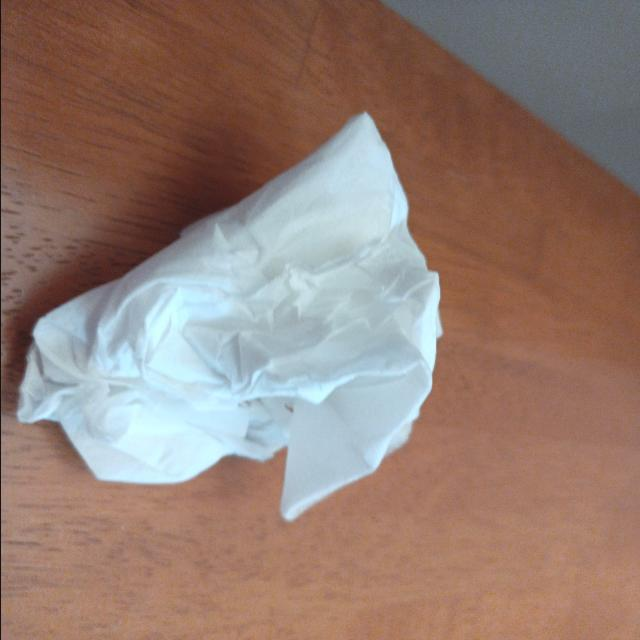Paper: (19, 90, 454, 506)
